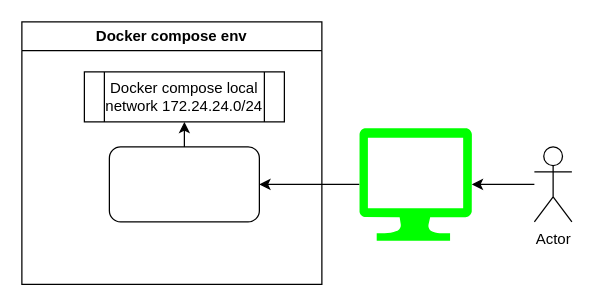
The diagram is 594 pixels wide and 306 high, and some of its shapes have lost their labels. The centre of each missing label's shape, as x and y in pixels:
"mongo" goes at [183,184].
"Robo3T" goes at [415,184].
